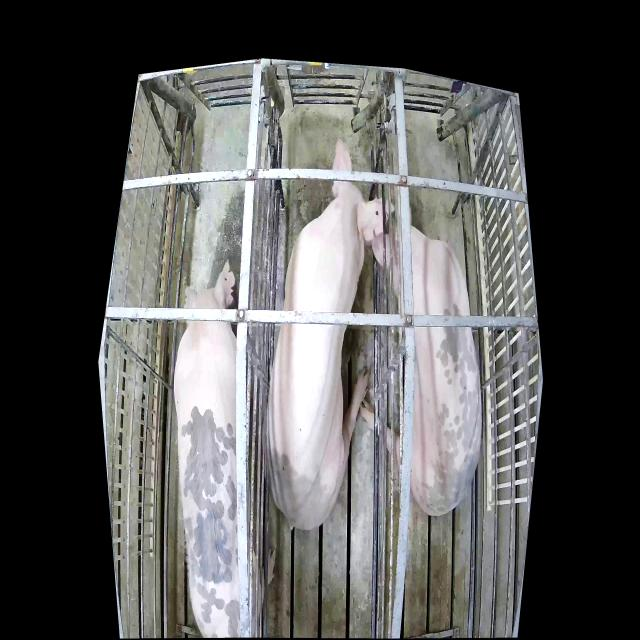pig: (268, 138, 391, 530), (360, 166, 480, 514), (171, 259, 276, 636)
